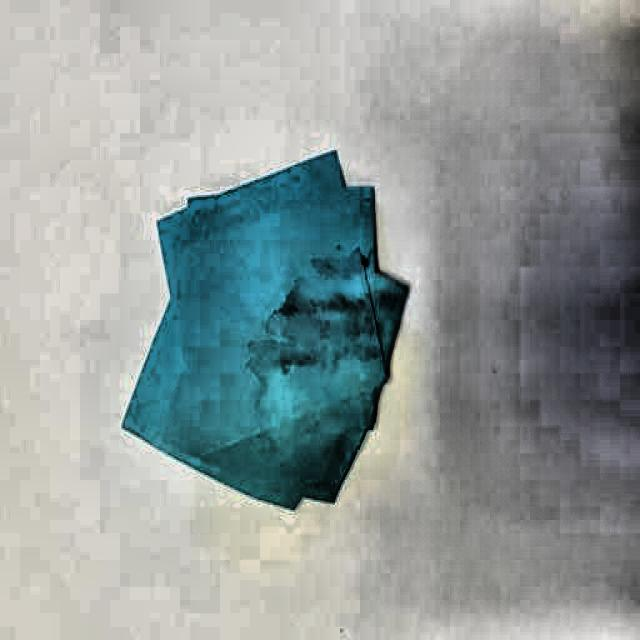paper: (123, 150, 406, 509)
